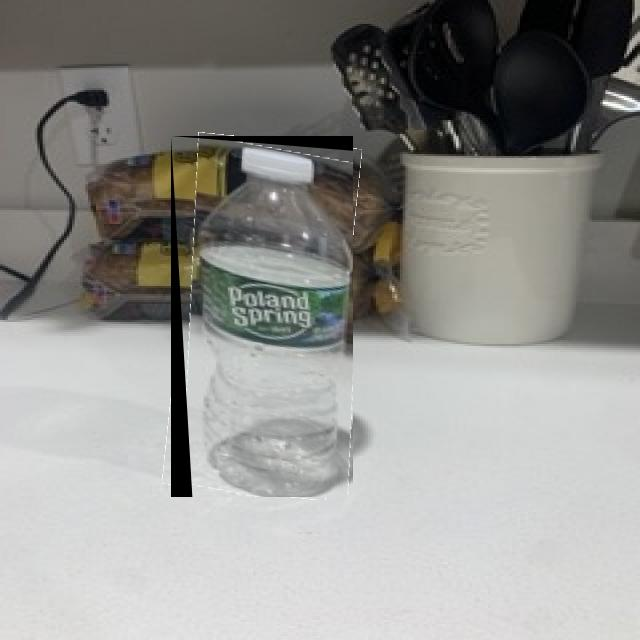water_bottle: (171, 136, 353, 497)
